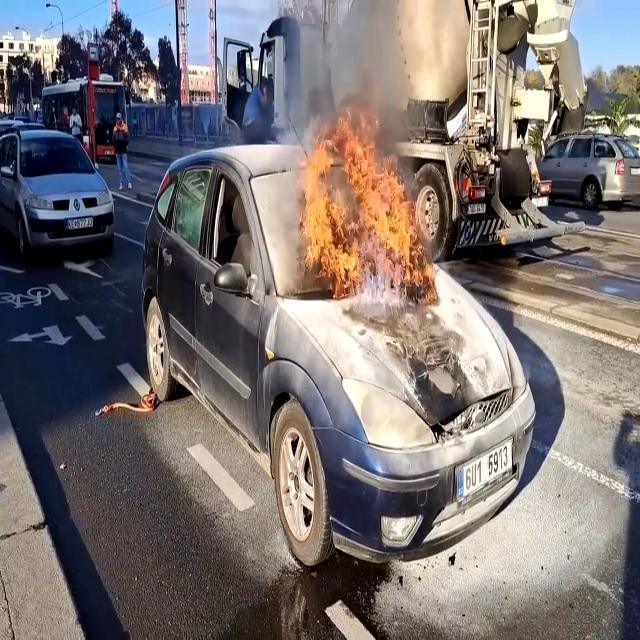Fire: (291, 100, 437, 310)
Smoke: (270, 0, 470, 145)
